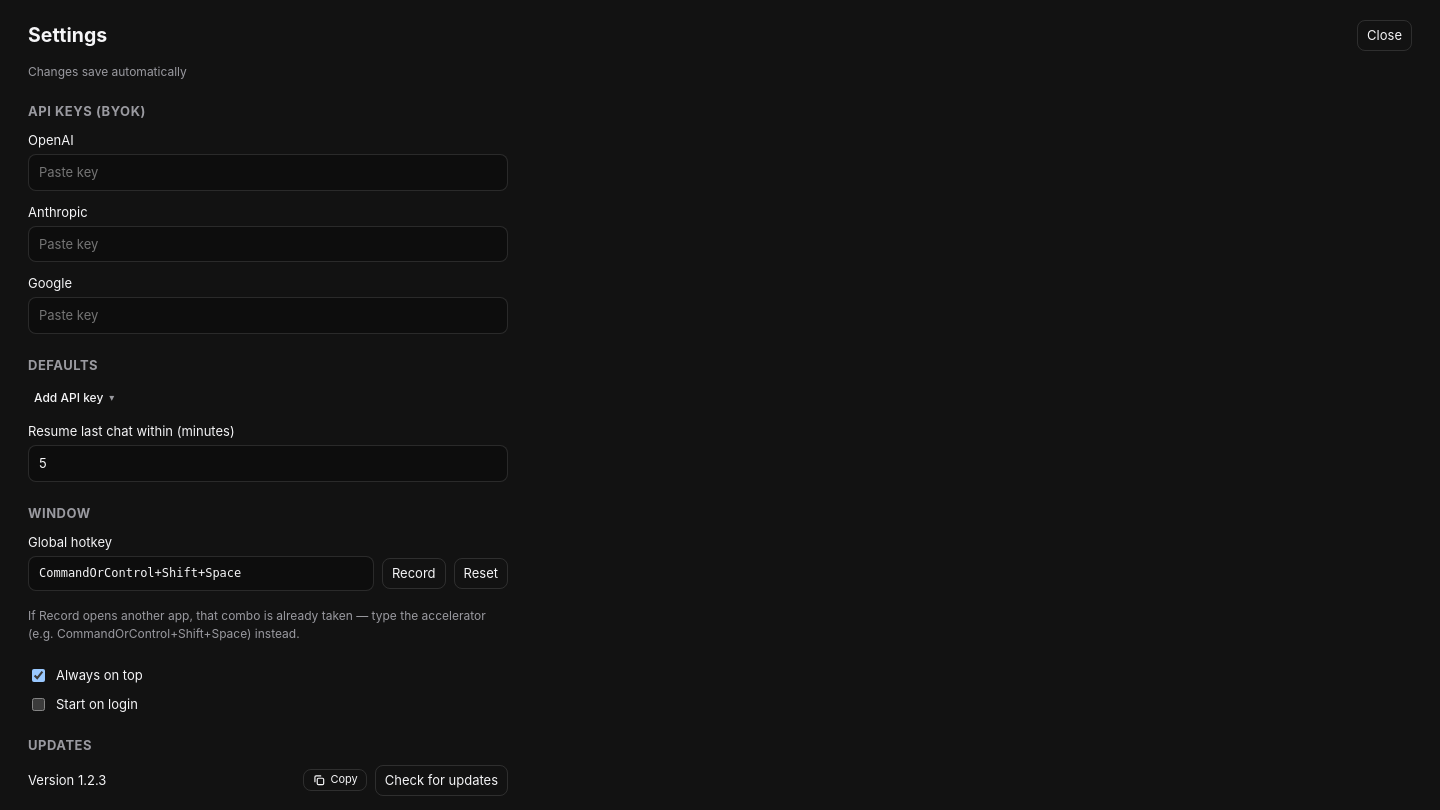
Test: Settings › surfaces keychain errors when saving a key fails
The width and height of the screenshot is (1440, 810).
Type "sk-test" into the password field with placeholder "Paste key" below "OpenAI" at (268, 172), box x1=28 y1=154 x2=508 y2=191
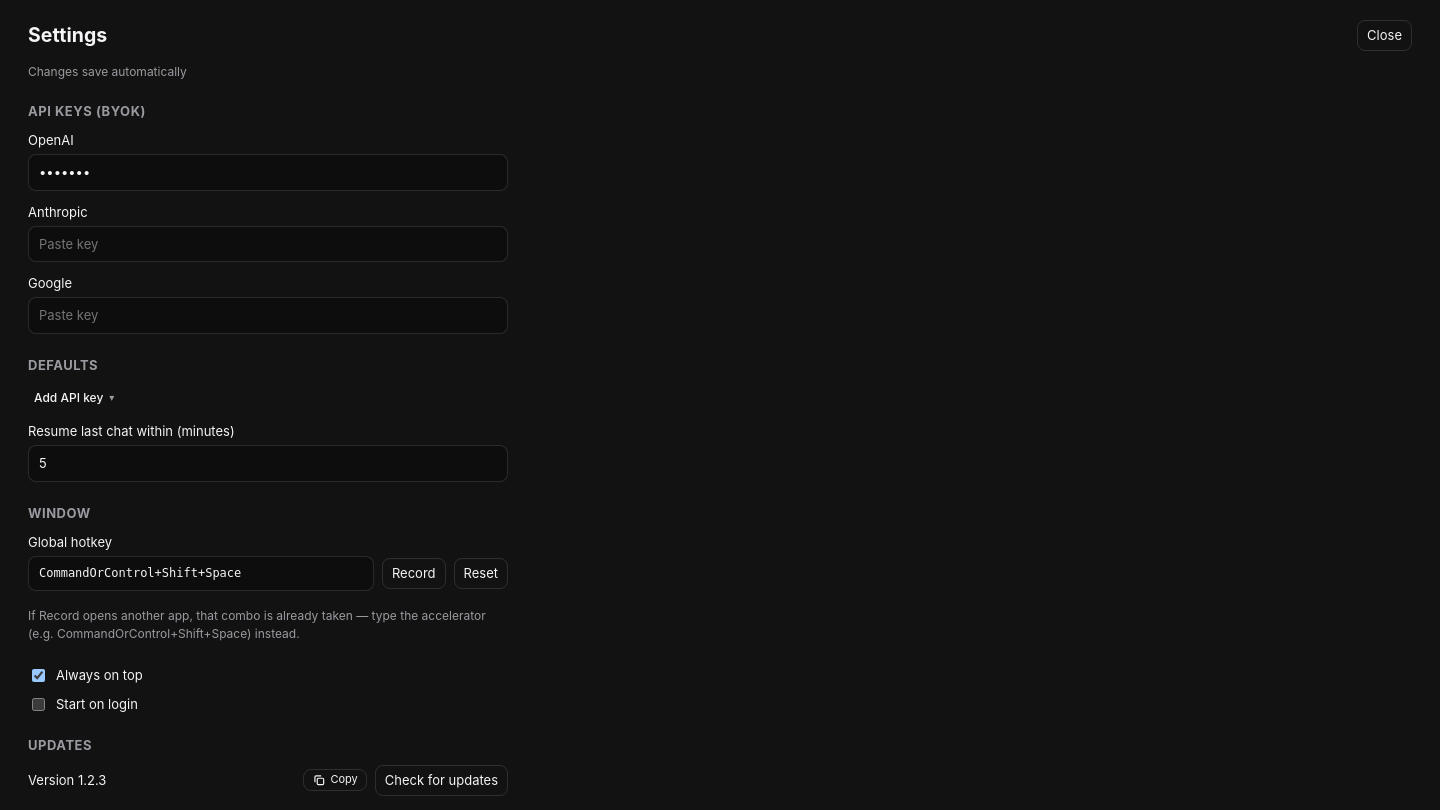
Press Tab
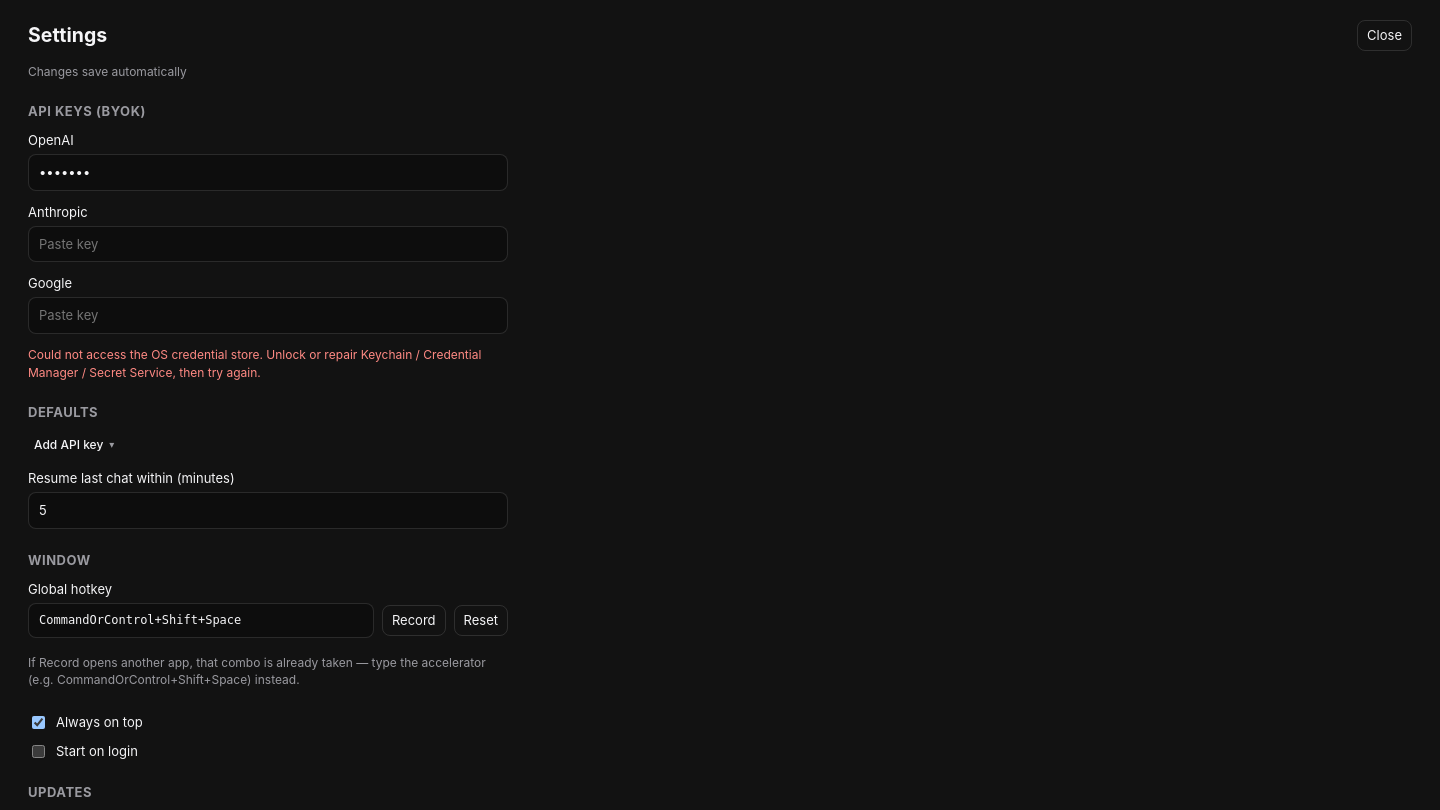
Expected: the text "Could not access the OS credential store" is shown, x1=28 y1=347 x2=481 y2=380
